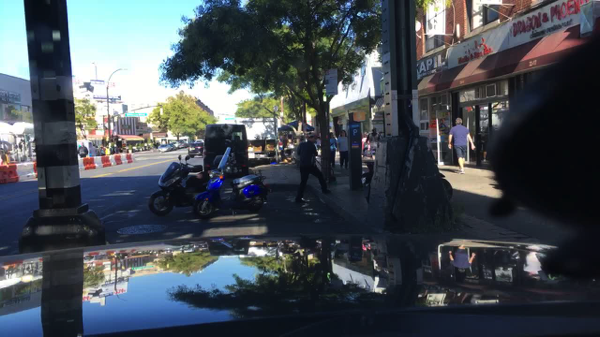car: (201, 123, 250, 179), (188, 141, 206, 162), (168, 141, 185, 150), (176, 140, 189, 149), (159, 144, 170, 154), (194, 137, 204, 144), (125, 146, 135, 153), (135, 147, 145, 153), (144, 144, 150, 152)
motor: (146, 157, 243, 221), (190, 154, 270, 222)
person: (292, 131, 333, 206), (446, 118, 477, 175), (336, 129, 351, 172), (362, 127, 384, 147), (329, 130, 338, 169), (78, 141, 89, 161), (281, 134, 288, 158), (316, 133, 322, 156), (90, 144, 97, 157), (96, 144, 102, 157)
traffic sign: (324, 67, 339, 96), (127, 111, 148, 118), (276, 118, 281, 129), (272, 106, 280, 112)
truck: (236, 117, 279, 168)
